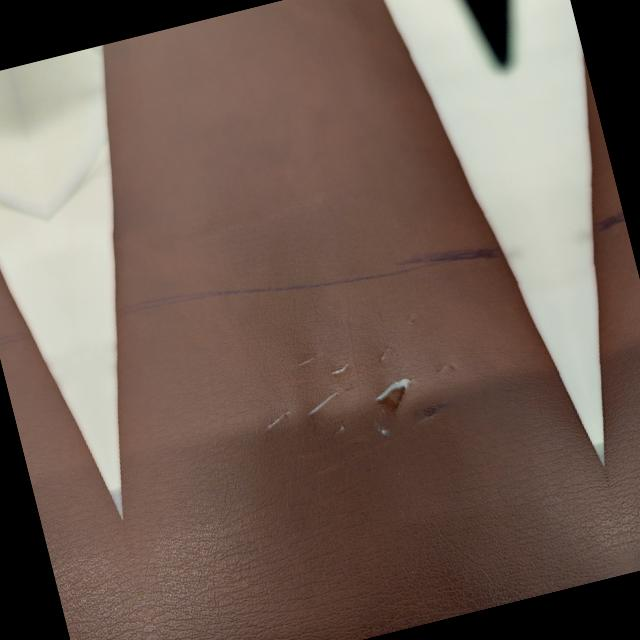belt_crack: (235, 296, 490, 476)
